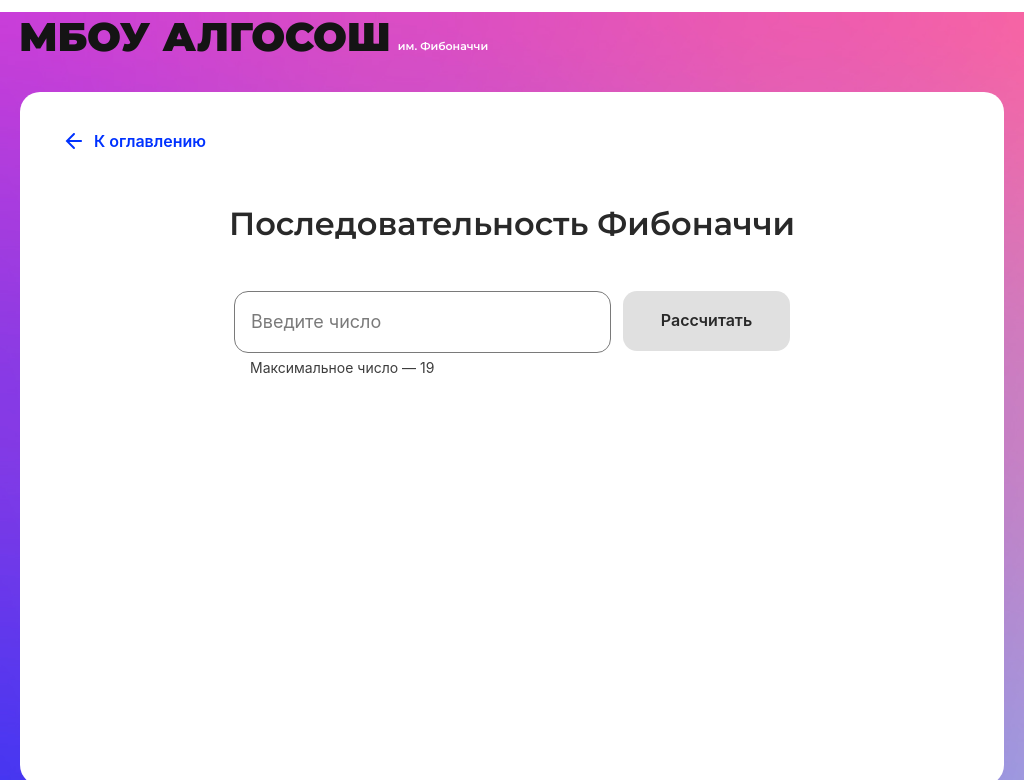
Test case: Компонент Последовательность Фибоначчи работает корректно › Кнопка Рассчитать работает корректно
Expected: the button "Рассчитать" is disabled, [623, 291, 790, 351]
Type "4" into the number field with placeholder "Введите число".
click(423, 322); type("4")  # box [234, 291, 611, 353]
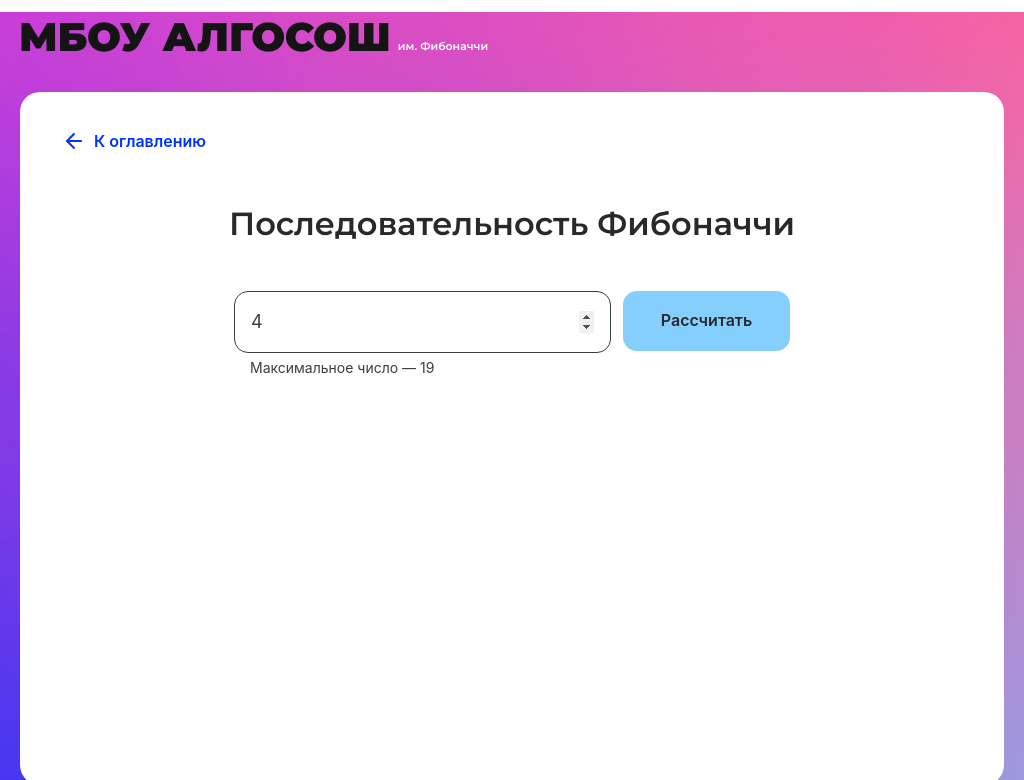
Expected: the text "Рассчитать" is enabled
Clear the number field at (423, 322), box [234, 291, 611, 353]
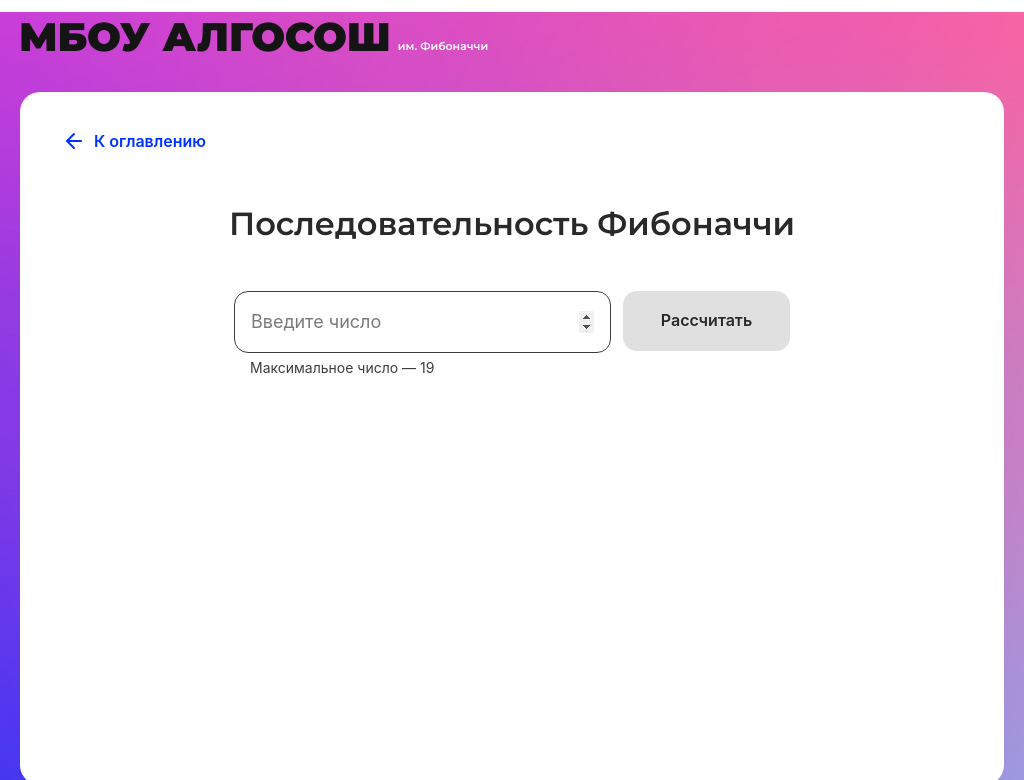
Result: the button "Рассчитать" is disabled at [623, 291, 790, 351]
